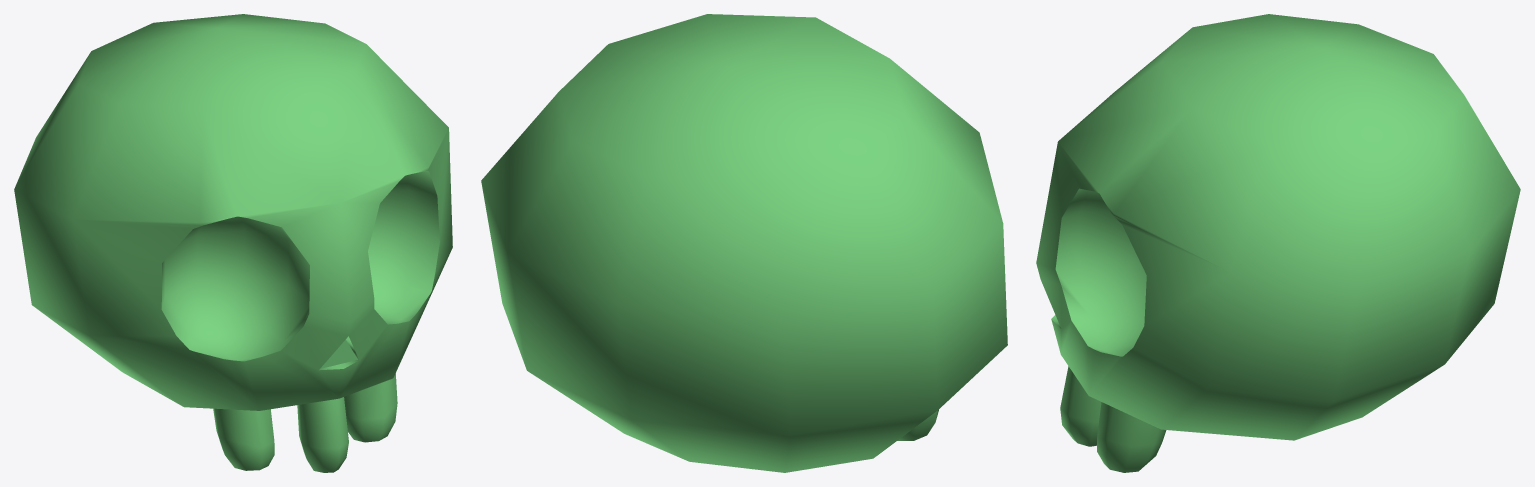
Rendered from HeadBone.fbx.
The picture shows the model from 3 angles, left to right: view 1: azimuth 30°, elevation 25°; view 2: azimuth 150°, elevation 25°; view 3: azimuth 270°, elevation 25°; orthographic projection. The views are drawn at different scales.
Visible parts, largest first — view 1: HeadBone; view 2: HeadBone; view 3: HeadBone.
Boxes of the visible parts, box(x1,y1,x2,y2) form: HeadBone: box(14, 14, 452, 472); HeadBone: box(481, 14, 1007, 472); HeadBone: box(1036, 14, 1520, 472).
Bounding box in the file's own units: 14.47 × 13.32 × 14.89.
